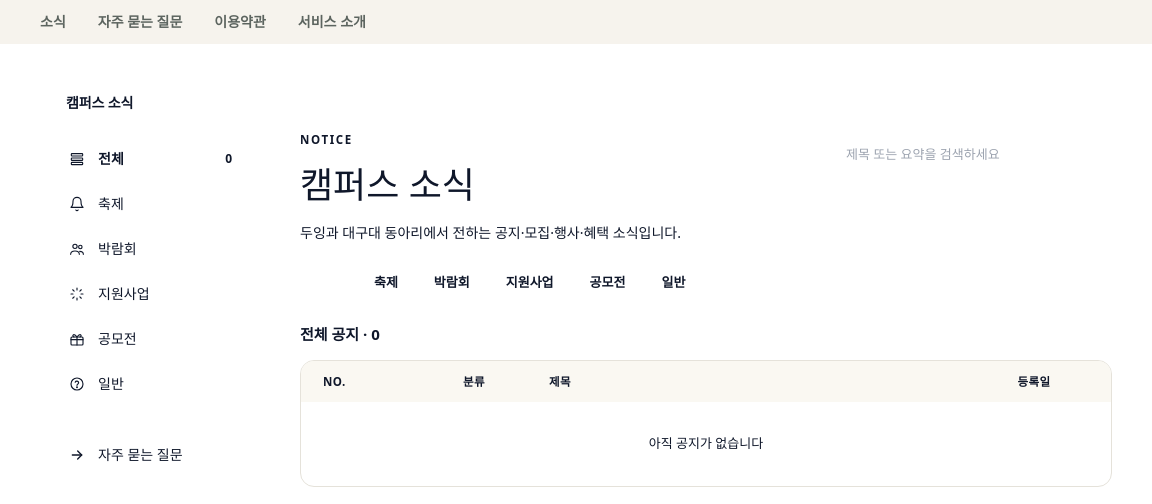
NoticesPage — 고정 공지 3건 이상·빈 상태 › 검색 결과가 0건이면 "검색 결과가 없습니다." 를 보인다
Type "없는검색어" into the field named "소식 검색".
click(957, 155); type("없는검색어")  # box [846, 145, 1068, 165]
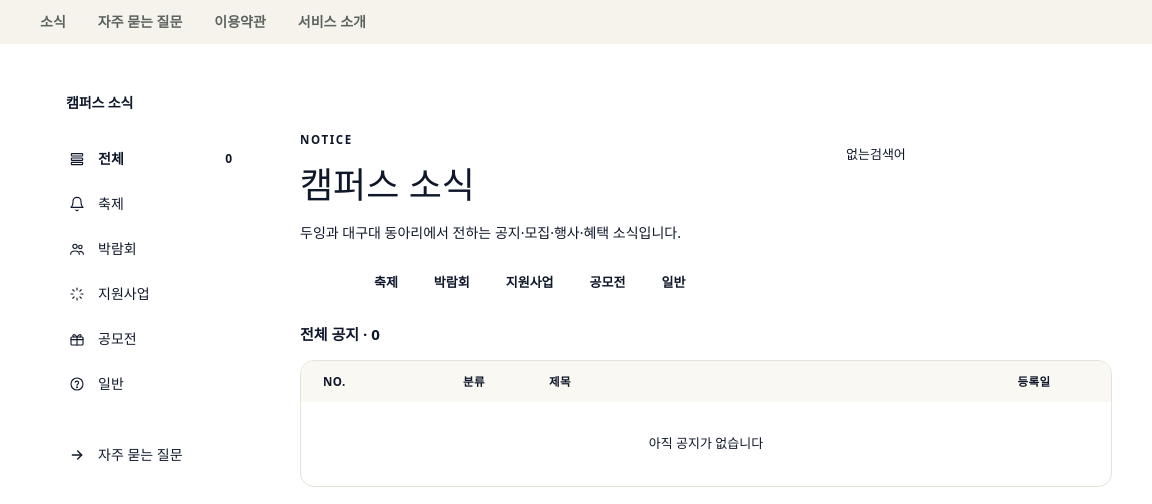
Press Enter in the field named "소식 검색", box [846, 145, 1068, 165]
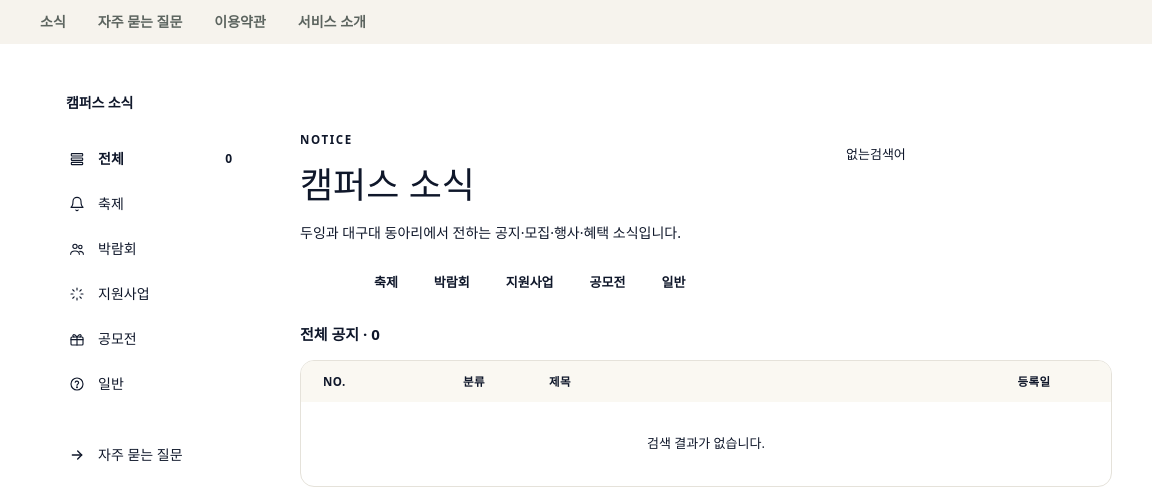
expect the text "검색 결과가 없습니다." is shown: met, box [647, 434, 765, 452]
